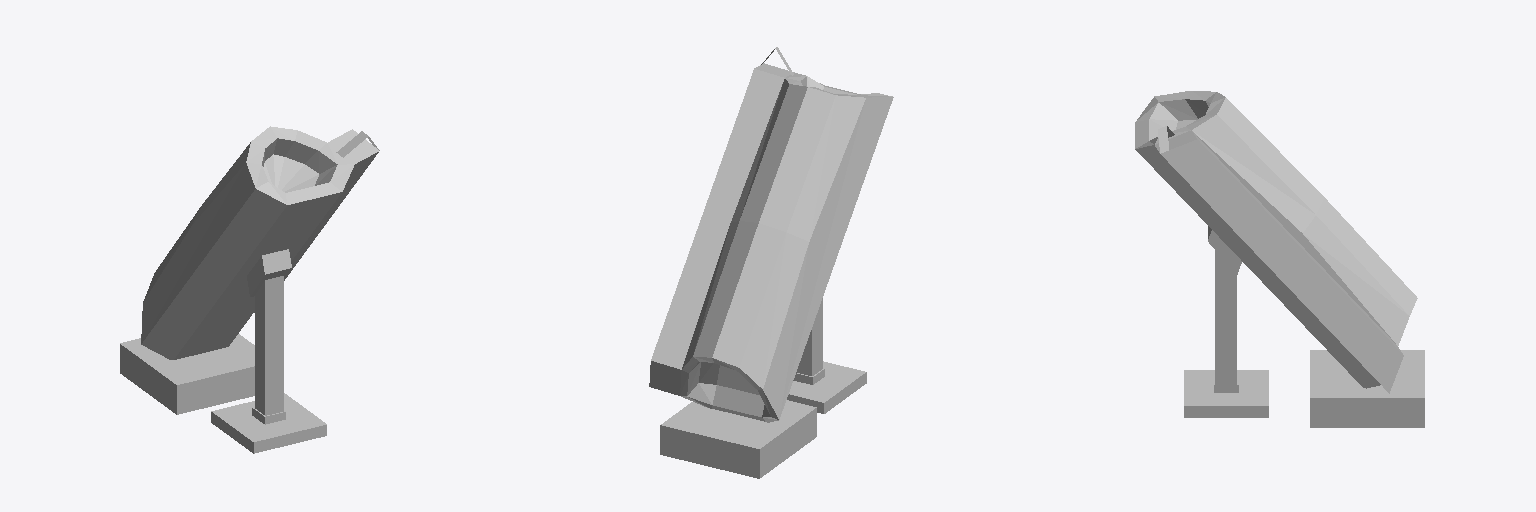
The model's file is developer.obj.
3 renders of one model, left to right at view 1: azimuth 30°, elevation 25°; view 2: azimuth 150°, elevation 25°; view 3: azimuth 270°, elevation 25°, orthographic.
Visible parts, largest first — view 1: default; view 2: default; view 3: default.
Part boxes in pixels (x1,y1,x2,y2): default: (120, 126, 379, 453); default: (649, 47, 893, 478); default: (1135, 91, 1424, 427).
Bounding box in the file's own units: 2.58 × 5.94 × 5.05.